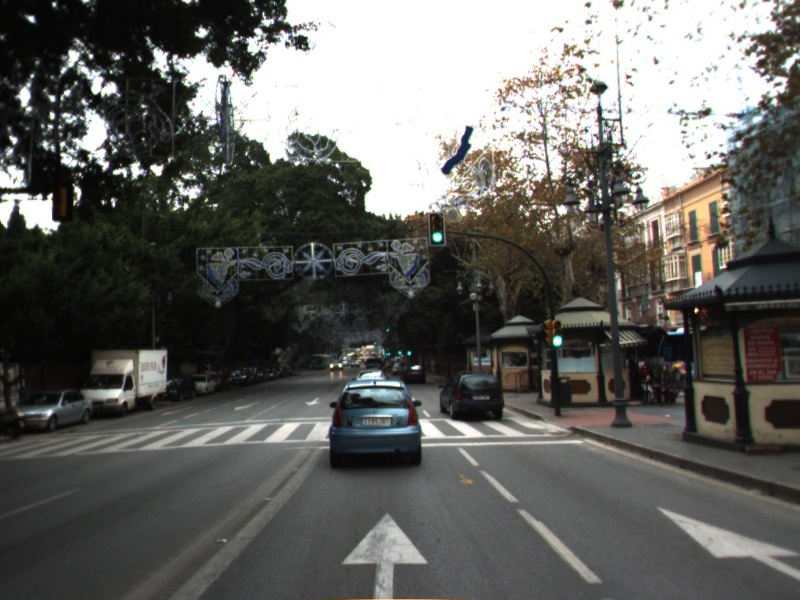STRAIGHT: (651, 502, 800, 579), (337, 507, 432, 600)
